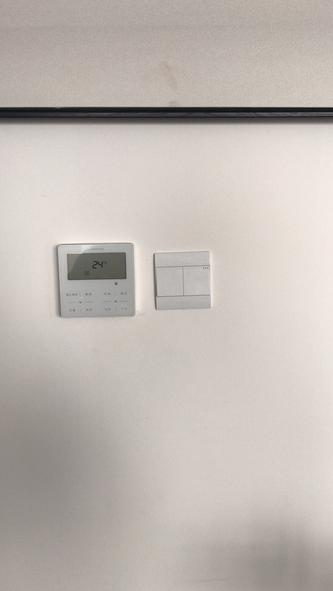switch: (155, 266, 182, 297), (184, 266, 211, 297)
